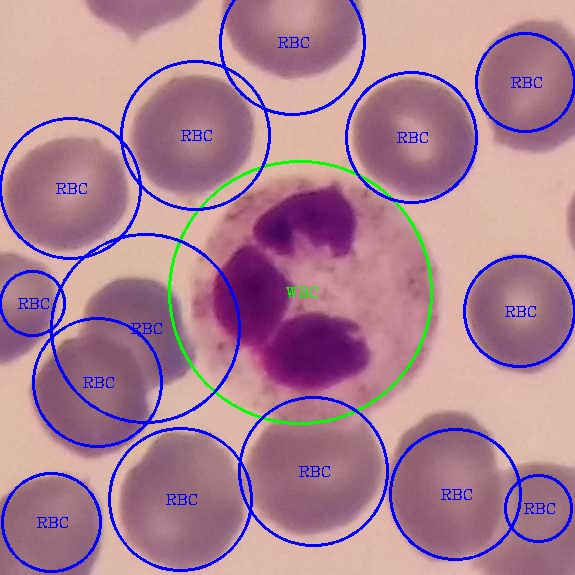RBC: (245, 396, 385, 541), (114, 427, 247, 573), (385, 410, 506, 563), (127, 72, 259, 205), (348, 75, 480, 204), (26, 336, 155, 465), (0, 135, 130, 257), (76, 272, 197, 394), (463, 252, 573, 377), (476, 18, 574, 157), (218, 0, 364, 79), (0, 471, 107, 573), (492, 459, 574, 573)
WBC: (191, 176, 442, 407)
